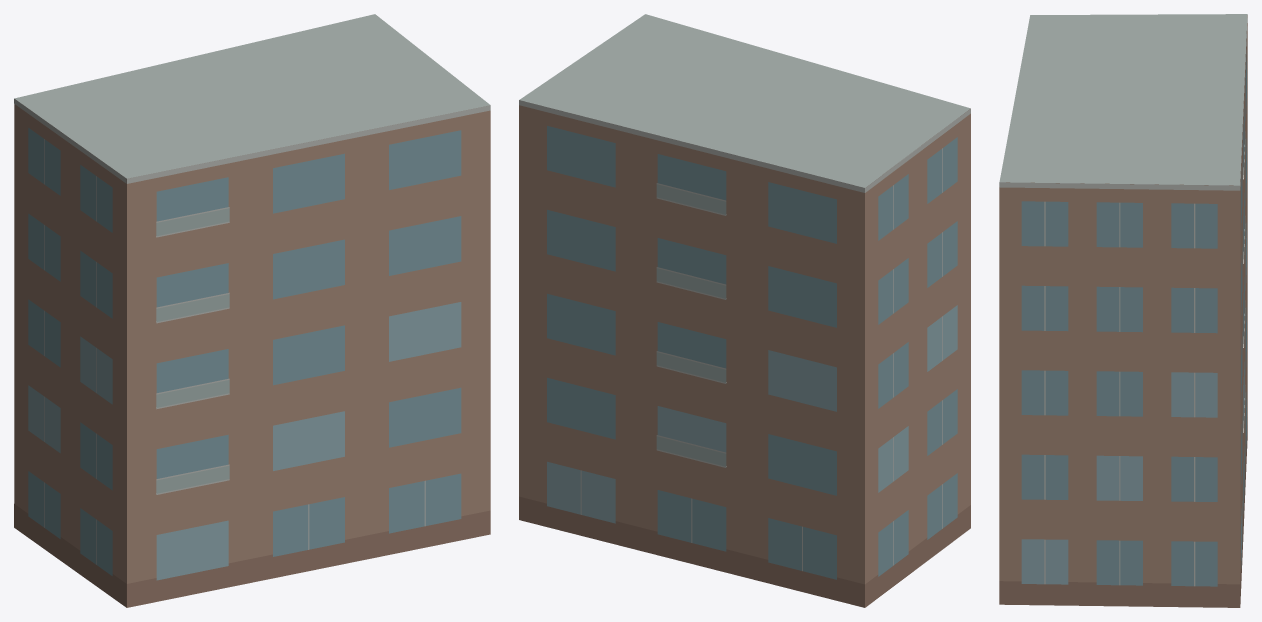
The model's file is survey-upis-32480856.glb.
The picture shows the model from 3 angles, left to right: view 1: azimuth 30°, elevation 25°; view 2: azimuth 150°, elevation 25°; view 3: azimuth 270°, elevation 25°; orthographic projection. The views are drawn at different scales.
Visible parts, largest first — view 1: survey-upis-32480856.tmp; view 2: survey-upis-32480856.tmp; view 3: survey-upis-32480856.tmp.
Boxes of the visible parts, x1,y1,x2,y2 form: survey-upis-32480856.tmp: (14, 14, 490, 607); survey-upis-32480856.tmp: (519, 14, 970, 607); survey-upis-32480856.tmp: (999, 14, 1247, 607).
Bounding box in the file's own units: 17.4 × 19.96 × 10.64.
